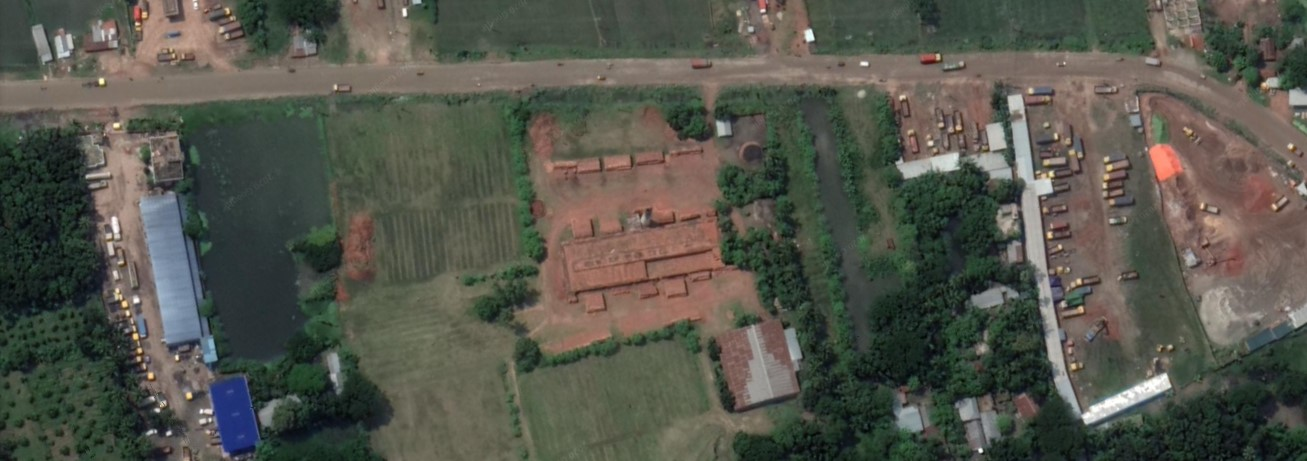kiln: (563, 187, 718, 309)
